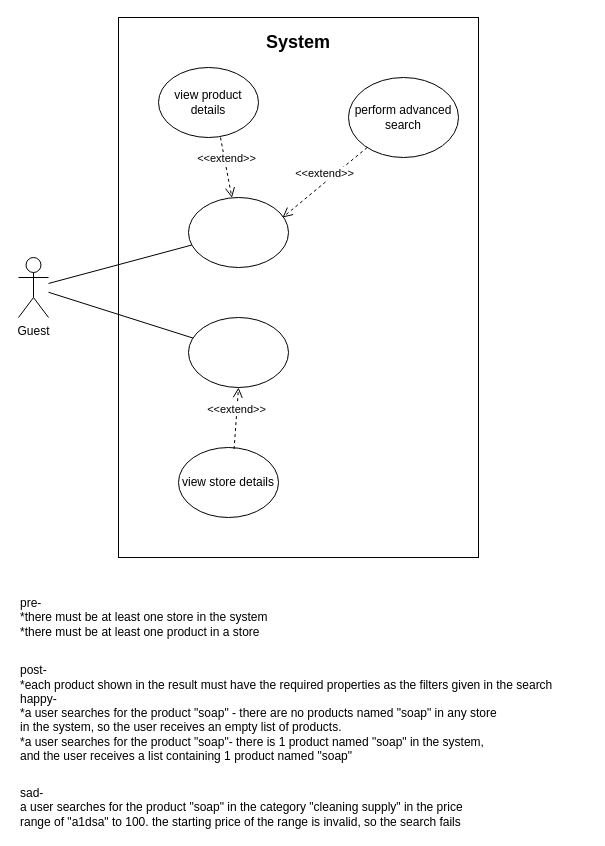
Some shapes in this 605 by 846 pixel diagram are drawn without their labels. Each missing label, with the box of its shape:
browse products: (188, 196, 288, 268)
browse stores: (188, 316, 288, 388)
